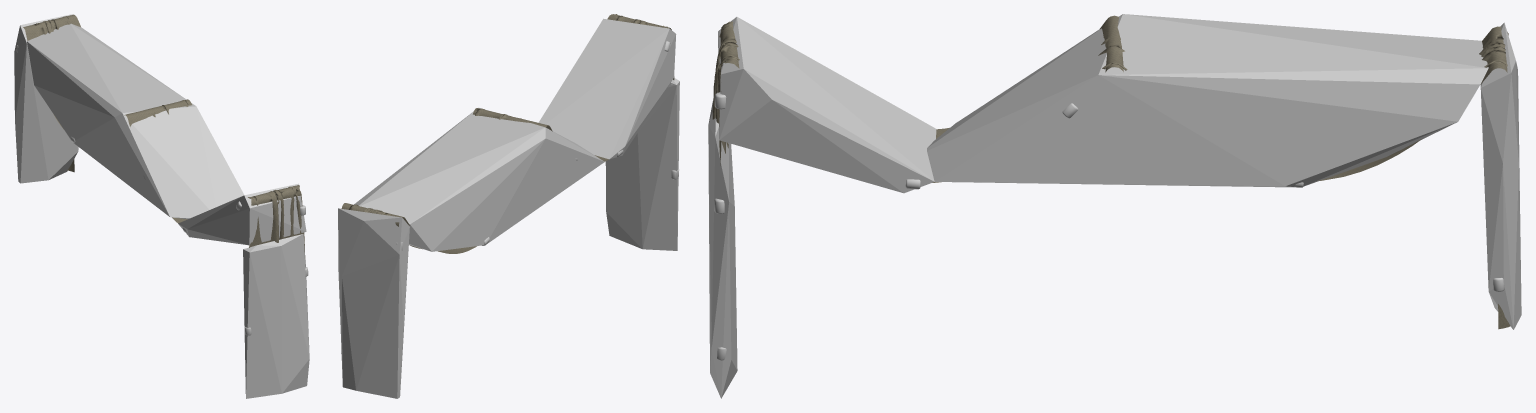
File: SM_Fish_net_5_01.fbx
The picture shows the model from 3 angles, left to right: view 1: azimuth 30°, elevation 25°; view 2: azimuth 150°, elevation 25°; view 3: azimuth 270°, elevation 25°; orthographic projection. The views are drawn at different scales.
Parts seen in each view (by area): view 1: SM_Fish_net_5_01_ConvexHulls, SM_Fish_net_5_01; view 2: SM_Fish_net_5_01_ConvexHulls, SM_Fish_net_5_01; view 3: SM_Fish_net_5_01_ConvexHulls, SM_Fish_net_5_01.
Boxes of the visible parts, x1=… form: SM_Fish_net_5_01_ConvexHulls: x1=14, y1=14, x2=309, y2=398; SM_Fish_net_5_01: x1=16, y1=14, x2=308, y2=335; SM_Fish_net_5_01_ConvexHulls: x1=338, y1=18, x2=679, y2=398; SM_Fish_net_5_01: x1=341, y1=14, x2=678, y2=353; SM_Fish_net_5_01_ConvexHulls: x1=708, y1=14, x2=1521, y2=398; SM_Fish_net_5_01: x1=712, y1=15, x2=1510, y2=360.
Size of the model in its own units: 105 by 554 by 252.
